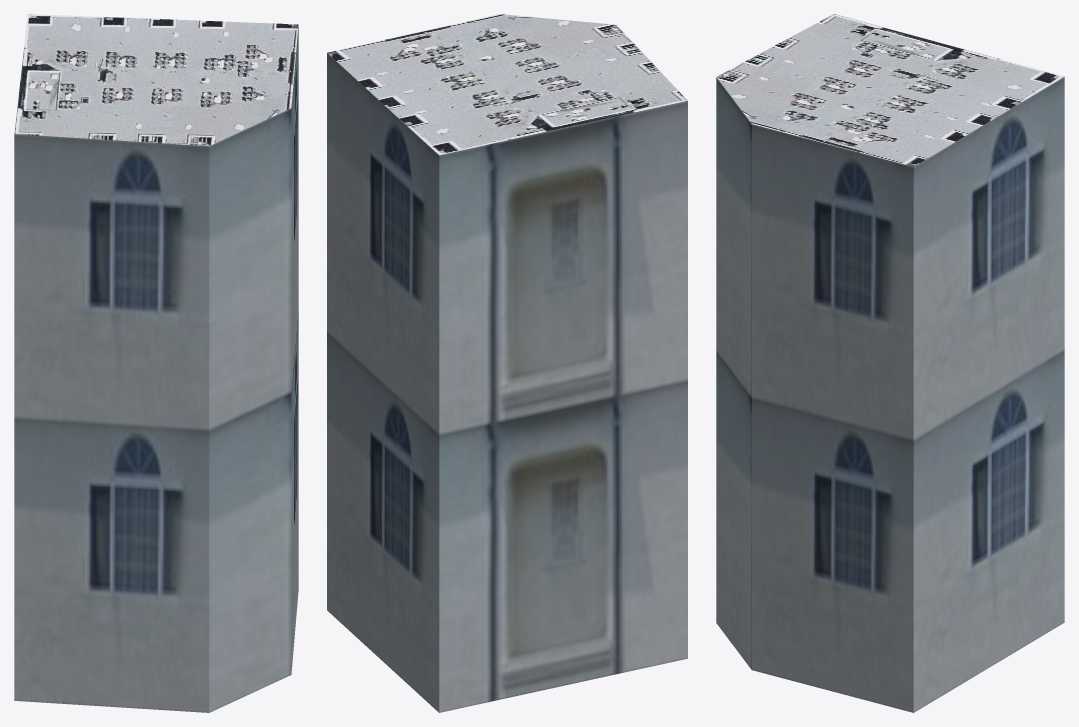
File: ResTex__2207.fbx
3 renders of one model, left to right at view 1: azimuth 30°, elevation 25°; view 2: azimuth 150°, elevation 25°; view 3: azimuth 270°, elevation 25°, orthographic. The views are drawn at different scales.
Visible parts, largest first — view 1: CityEngineMaterial_17_m, CityEngineMaterial_8_m; view 2: CityEngineMaterial_17_m, CityEngineMaterial_8_m; view 3: CityEngineMaterial_17_m, CityEngineMaterial_8_m.
Part boxes in pixels (box(x1,y1,x2,y2)): CityEngineMaterial_17_m: box(14, 25, 298, 712); CityEngineMaterial_8_m: box(14, 14, 298, 146); CityEngineMaterial_17_m: box(327, 53, 687, 712); CityEngineMaterial_8_m: box(327, 14, 687, 155); CityEngineMaterial_17_m: box(716, 77, 1064, 712); CityEngineMaterial_8_m: box(716, 14, 1064, 166).
Size of the model in its own units: 3.61 by 6 by 3.47.
2 materials, 2 textured.
